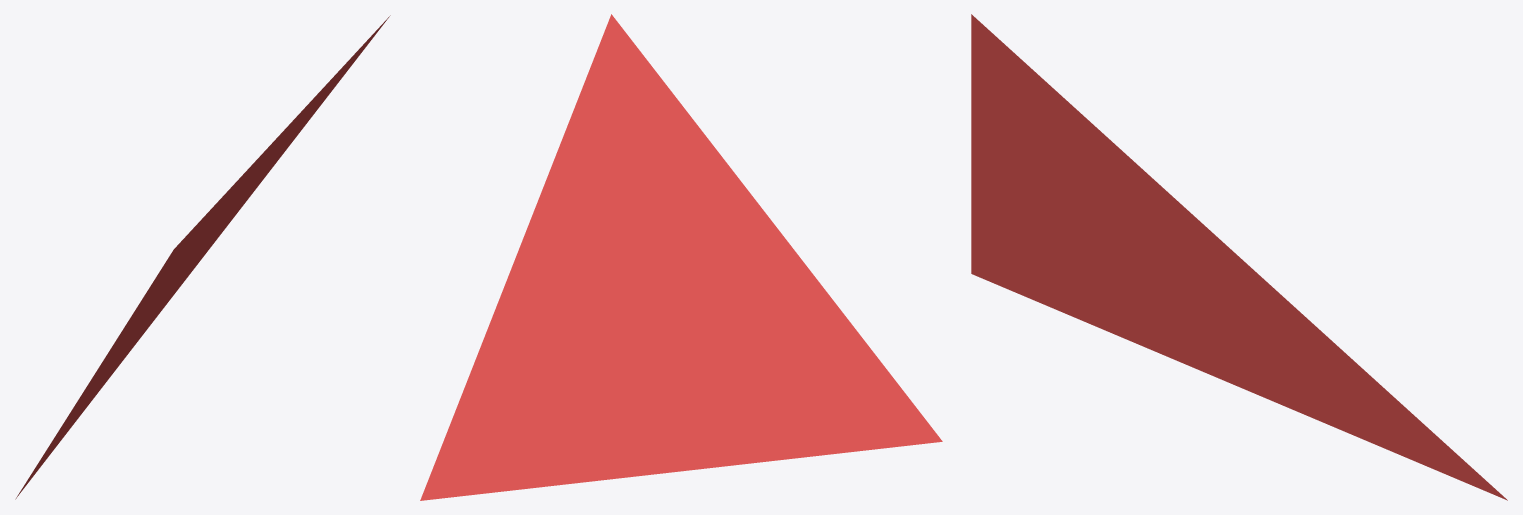
Rendered from 8_red.fbx.
The picture shows the model from 3 angles, left to right: view 1: azimuth 30°, elevation 25°; view 2: azimuth 150°, elevation 25°; view 3: azimuth 270°, elevation 25°; orthographic projection. The views are drawn at different scales.
Parts seen in each view (by area): view 1: 8_red; view 2: 8_red; view 3: 8_red.
Boxes of the visible parts, x1=… form: 8_red: x1=15, y1=15, x2=390, y2=499; 8_red: x1=420, y1=14, x2=942, y2=500; 8_red: x1=971, y1=14, x2=1507, y2=500.
Bounding box in the file's own units: 94.35 × 94.35 × 94.35.
